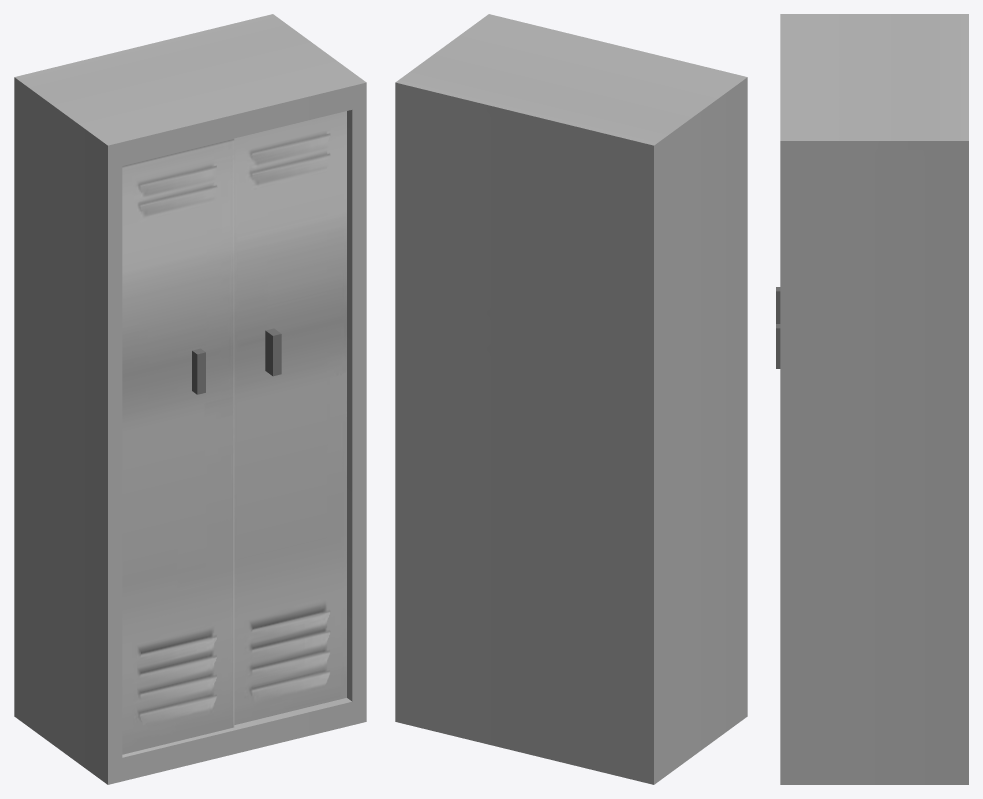
File: locker1.fbx
The picture shows the model from 3 angles, left to right: view 1: azimuth 30°, elevation 25°; view 2: azimuth 150°, elevation 25°; view 3: azimuth 270°, elevation 25°; orthographic projection.
Visible parts, largest first — view 1: Cube; view 2: Cube; view 3: Cube.
Boxes of the visible parts, <box> form: Cube: <box>14,14,366,784</box>; Cube: <box>395,14,747,784</box>; Cube: <box>776,14,968,784</box>.
Bounding box in the file's own units: 205 × 485 × 132.
Materials: 4 (4 with a texture image).
